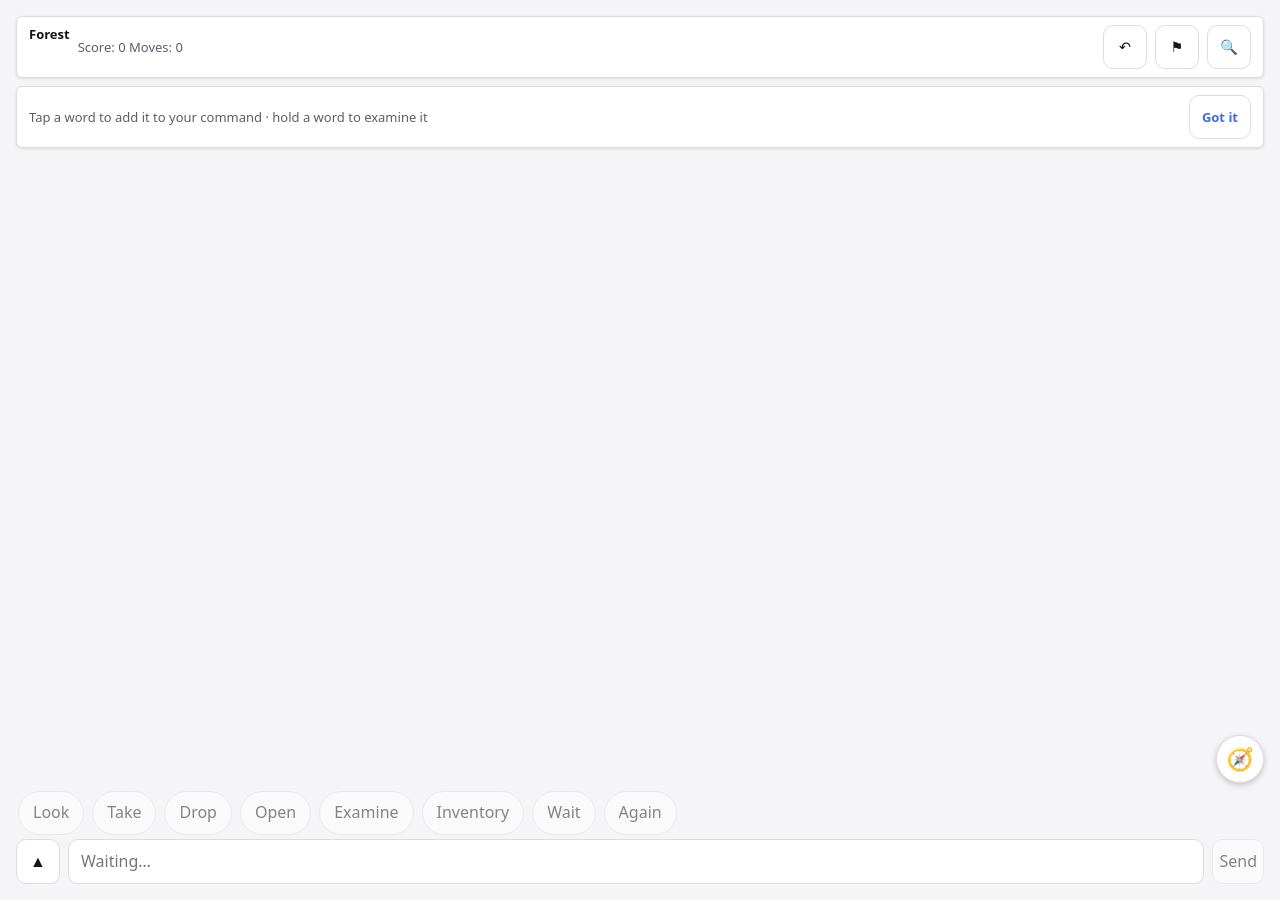
StoryScreen score log (UX-29) › shows the empty state when there are no score entries yet
This screenshot has width=1280, height=900.
Click the button with aria-label "Score log".
click(130, 47)  # box left=78, top=25, right=183, bottom=69
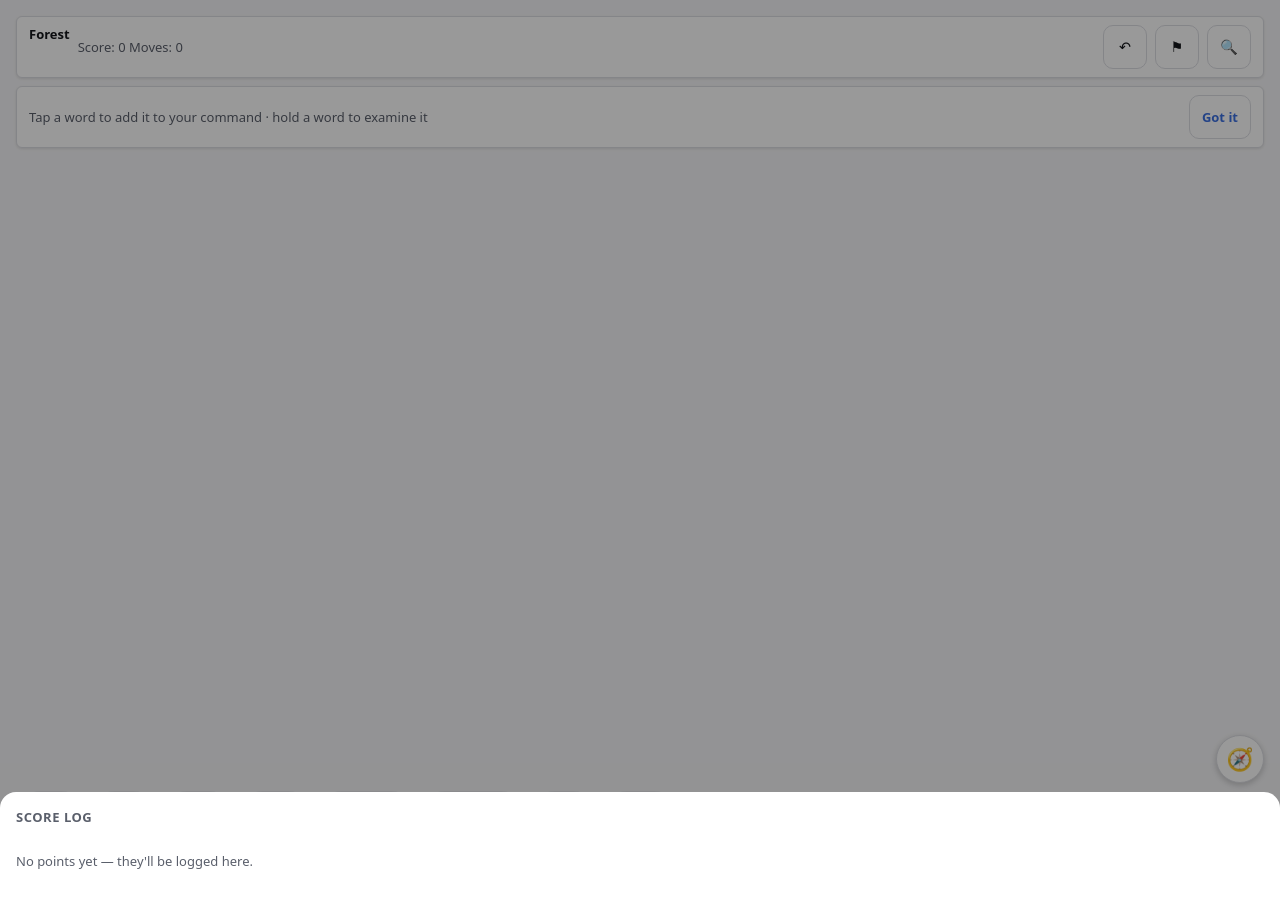
Expected: the text "No points yet — they'll be logged here." is shown, left=16, top=852, right=253, bottom=870
